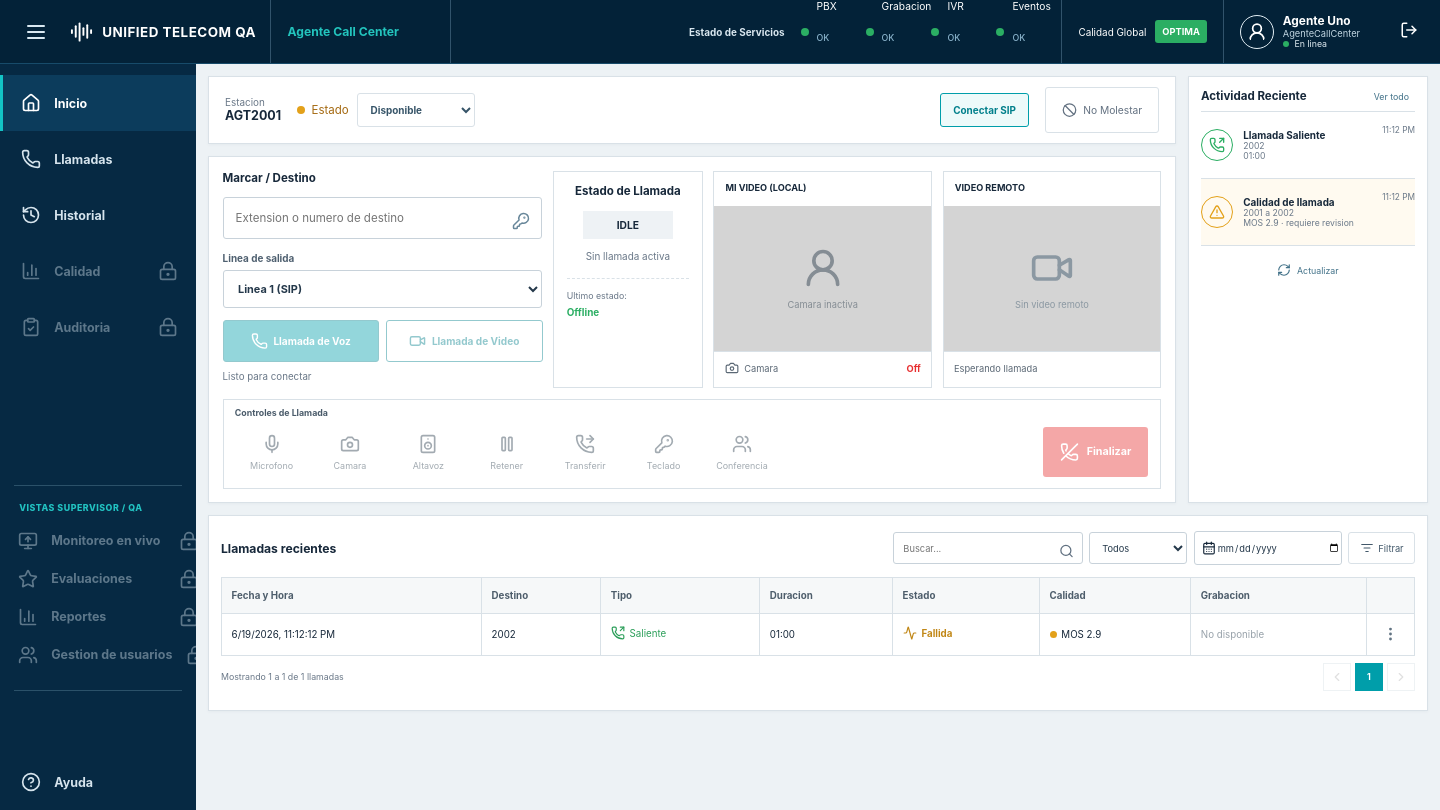
Scenario: Dashboard › traduce estados, alerta MOS bajo y abre el detalle del CDR
Check: the text "Calidad de llamada" is shown, box [1243, 196, 1335, 208]
Click the button named "Acciones de llamada 1" at (1390, 634), box [1376, 620, 1404, 648]
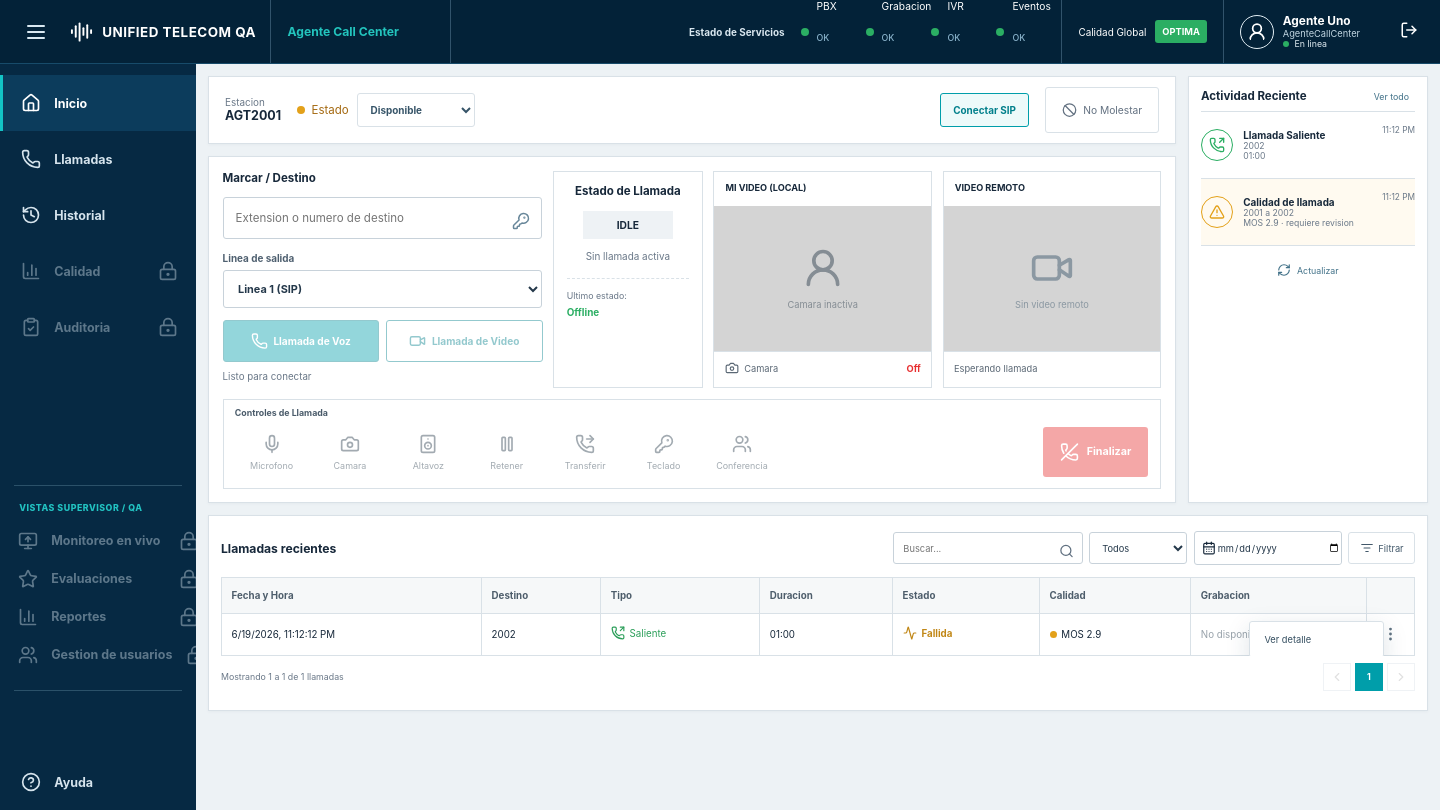
Click the menu item "Ver detalle" at (1316, 639), box [1254, 626, 1379, 653]
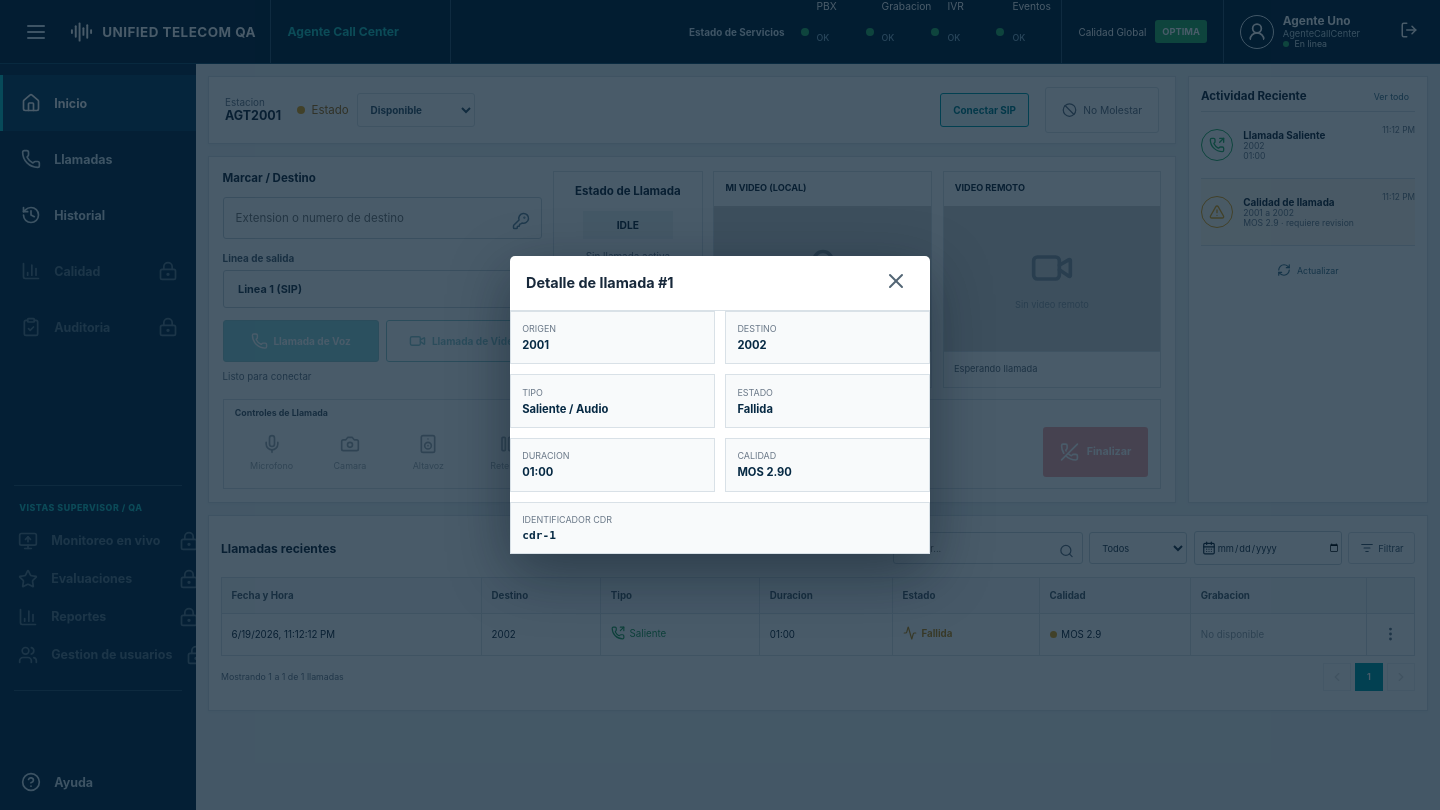
Check: the heading "Detalle de llamada #1" is shown, box [526, 274, 674, 291]
Check: the text "MOS 2.90" is shown, box [737, 465, 792, 479]
